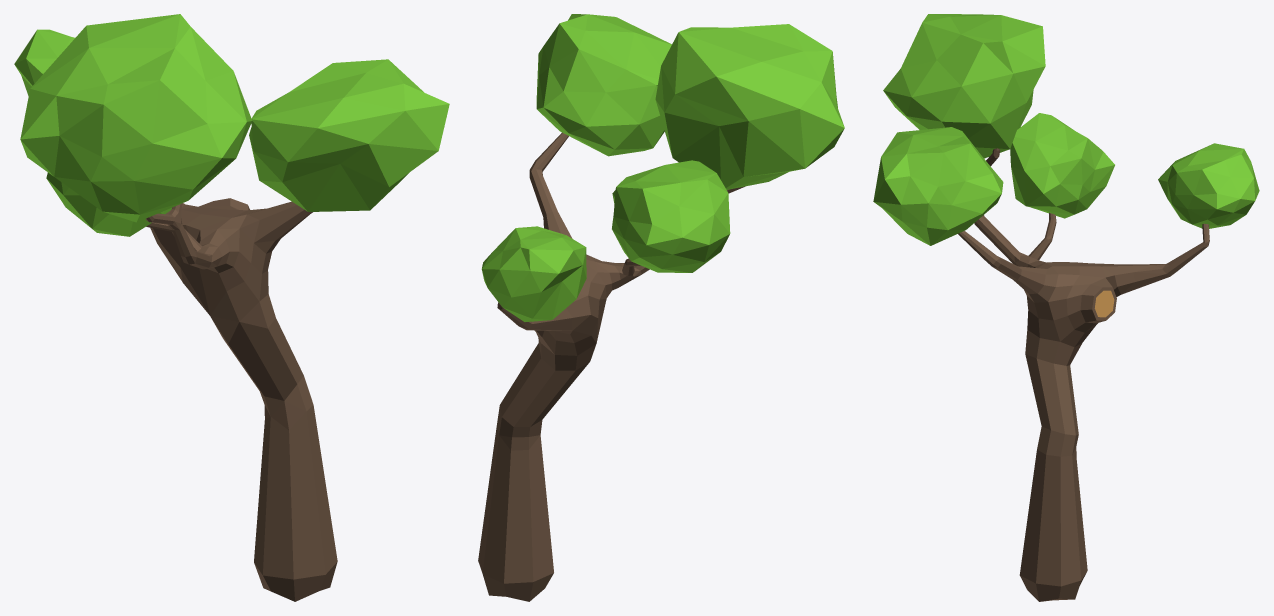
Rendered from Tree1.2.fbx.
The picture shows the model from 3 angles, left to right: view 1: azimuth 30°, elevation 25°; view 2: azimuth 150°, elevation 25°; view 3: azimuth 270°, elevation 25°; orthographic projection. The views are drawn at different scales.
Visible parts, largest first — view 1: Tree1.2; view 2: Tree1.2; view 3: Tree1.2.
Boxes of the visible parts, <box> form: Tree1.2: <box>14,14,449,601</box>; Tree1.2: <box>478,14,844,601</box>; Tree1.2: <box>873,14,1259,601</box>.
Size of the model in its own units: 267 by 436 by 304.
